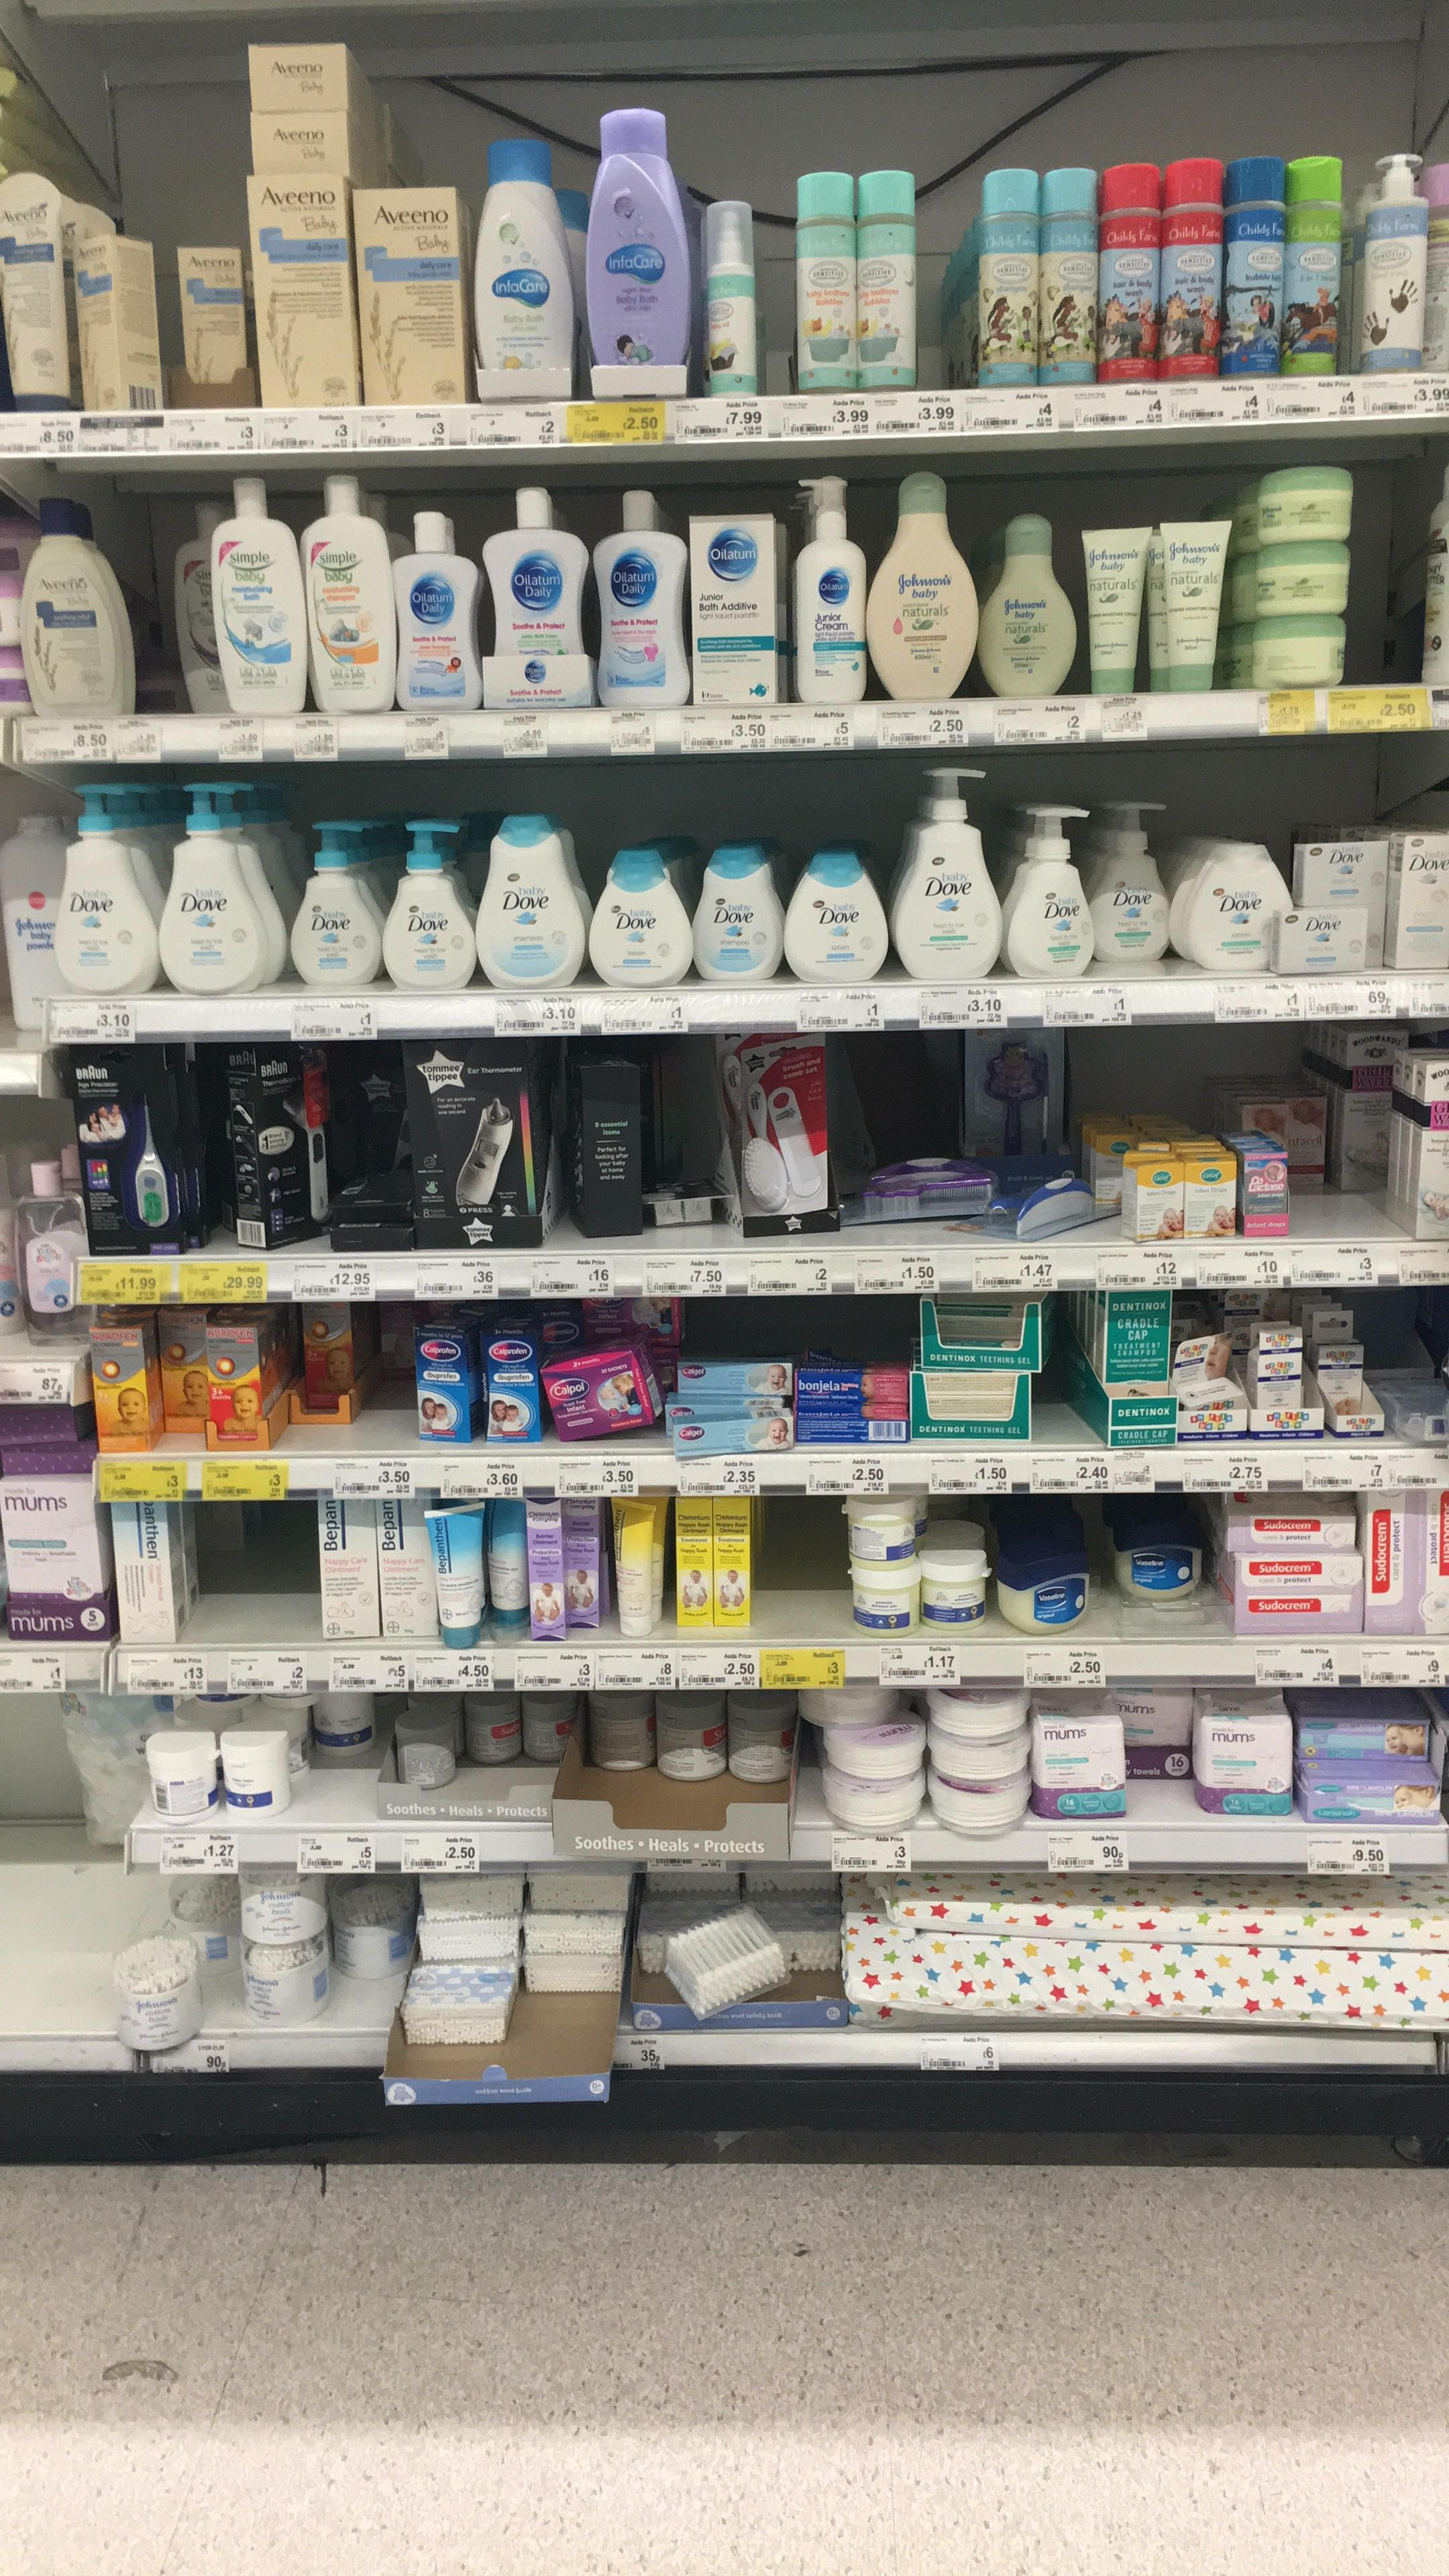misalignment: (720, 1040, 837, 1233), (67, 235, 166, 419), (563, 1039, 646, 1237), (104, 1925, 218, 2061), (541, 1338, 667, 1440), (663, 1918, 794, 2010), (428, 1500, 490, 1654), (987, 1169, 1113, 1240), (674, 1407, 801, 1467), (858, 1162, 998, 1215), (1169, 1332, 1249, 1421), (1265, 902, 1369, 970), (483, 1502, 525, 1631), (649, 1169, 738, 1223)
